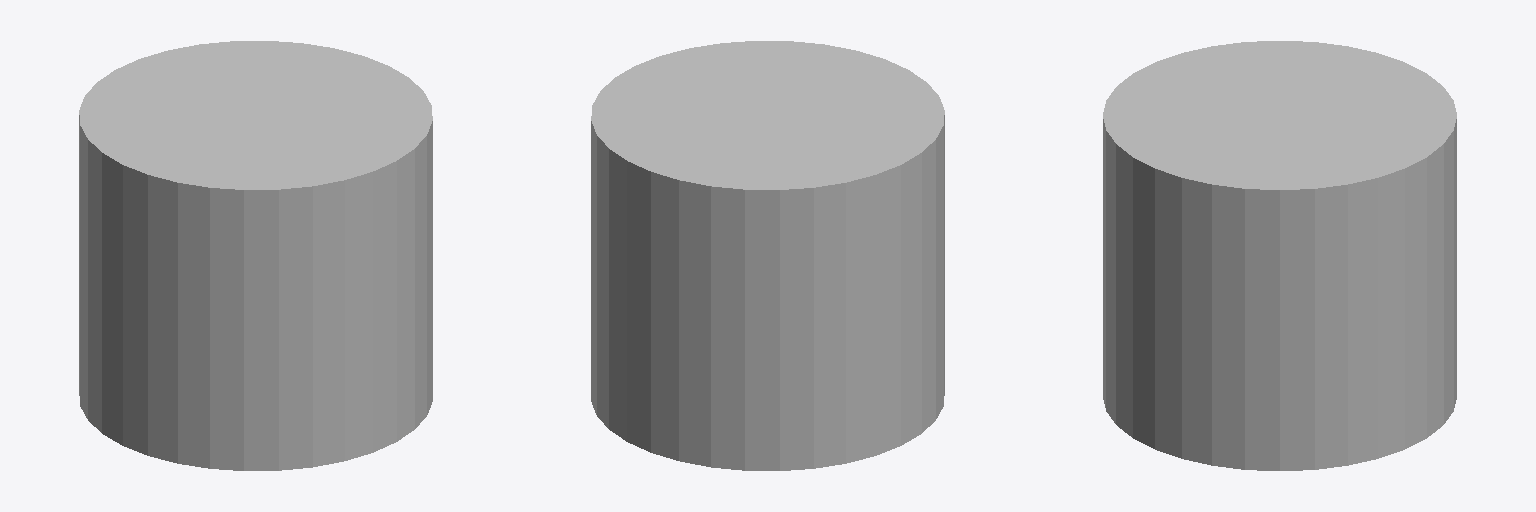
Rendered from highExplosion.obj.
3 views of the same model, side by side, from view 1: azimuth 30°, elevation 25°; view 2: azimuth 150°, elevation 25°; view 3: azimuth 270°, elevation 25° (orthographic).
Visible parts, largest first — view 1: взрыв_фугаса_Цилиндр.018; view 2: взрыв_фугаса_Цилиндр.018; view 3: взрыв_фугаса_Цилиндр.018.
Part boxes in pixels (bbox=[...]): взрыв_фугаса_Цилиндр.018: bbox=[79, 41, 432, 470]; взрыв_фугаса_Цилиндр.018: bbox=[591, 41, 944, 470]; взрыв_фугаса_Цилиндр.018: bbox=[1103, 41, 1456, 470].
Bounding box in the file's own units: 8 × 7 × 8.